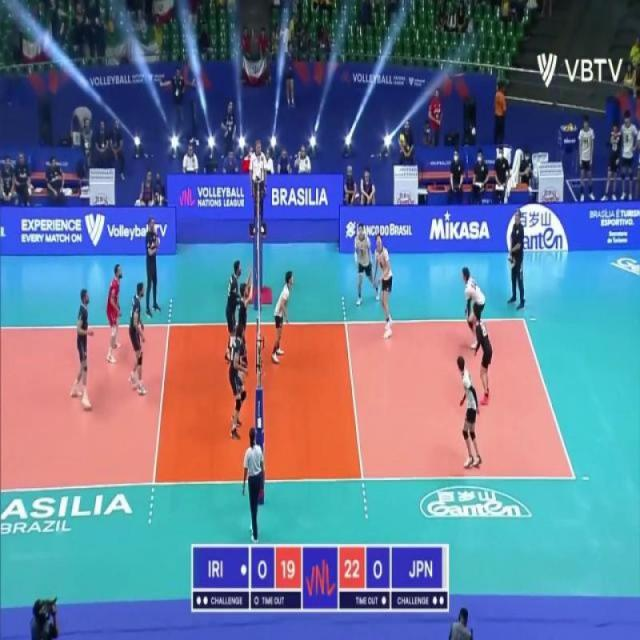volleyball: (397, 133, 407, 148), (569, 121, 574, 132), (563, 125, 570, 132)
